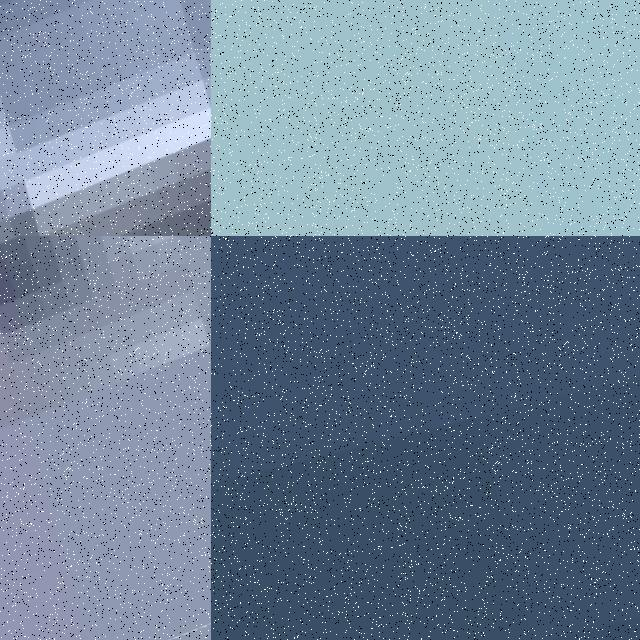drone: (0, 236, 211, 640), (0, 0, 211, 236)
